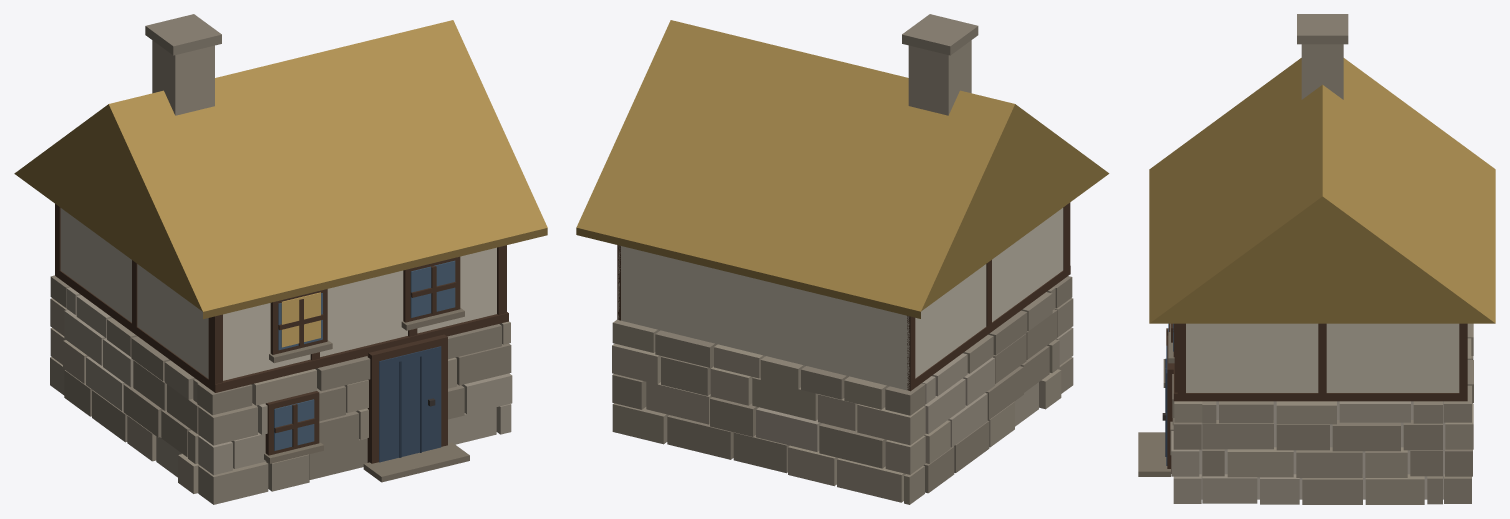
Rendered from house_a.glb.
3 renders of one model, left to right at view 1: azimuth 30°, elevation 25°; view 2: azimuth 150°, elevation 25°; view 3: azimuth 270°, elevation 25°, orthographic. The views are drawn at different scales.
Visible parts, largest first — view 1: house_a, house_a_w1_glow; view 2: house_a; view 3: house_a.
Part boxes in pixels (<box>): house_a: <box>14,14,547,504</box>; house_a_w1_glow: <box>281,292,320,347</box>; house_a: <box>576,14,1109,504</box>; house_a: <box>1138,14,1495,504</box>.
Bounding box in the file's own units: 3.9 × 4.35 × 3.82.
